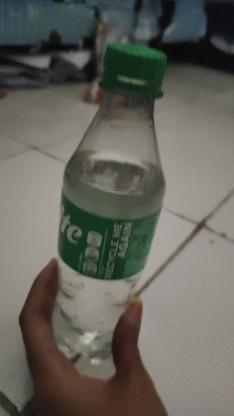Plastic Bottle: (56, 40, 165, 382)
